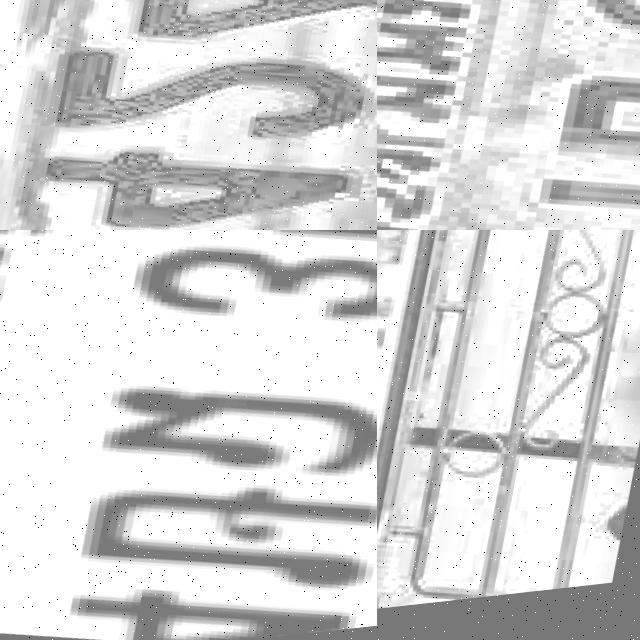license-plate: (0, 230, 377, 640), (0, 0, 377, 230), (377, 0, 640, 230)
